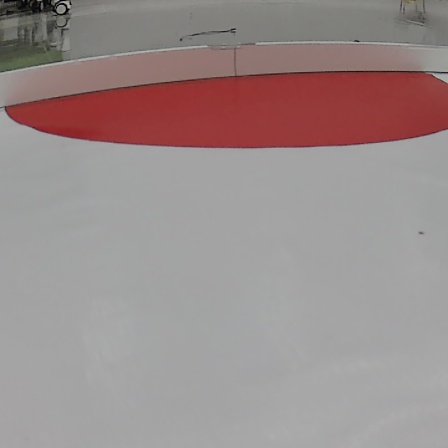red_base: (3, 68, 448, 152)
